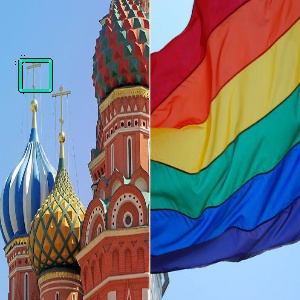square: (16, 56, 54, 94)
